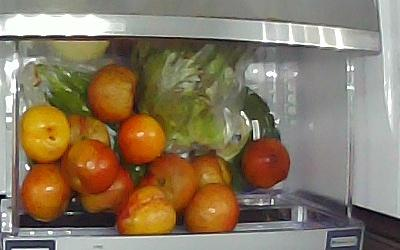prune: (142, 152, 197, 211), (62, 140, 119, 195), (116, 185, 177, 236), (21, 163, 72, 222), (20, 105, 70, 164), (185, 183, 240, 235), (88, 65, 137, 123), (81, 167, 134, 216), (242, 138, 290, 190), (119, 113, 166, 166), (64, 114, 110, 151), (189, 156, 232, 188)
